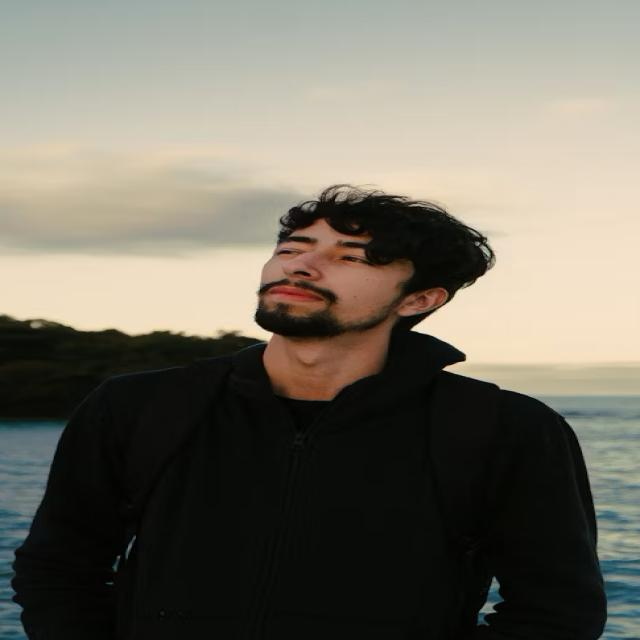Edited images: (6, 163, 636, 640)
